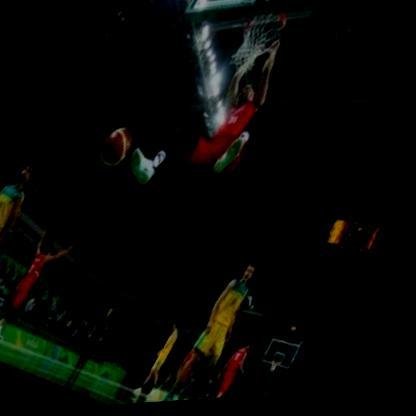basketball: (91, 120, 148, 181)
